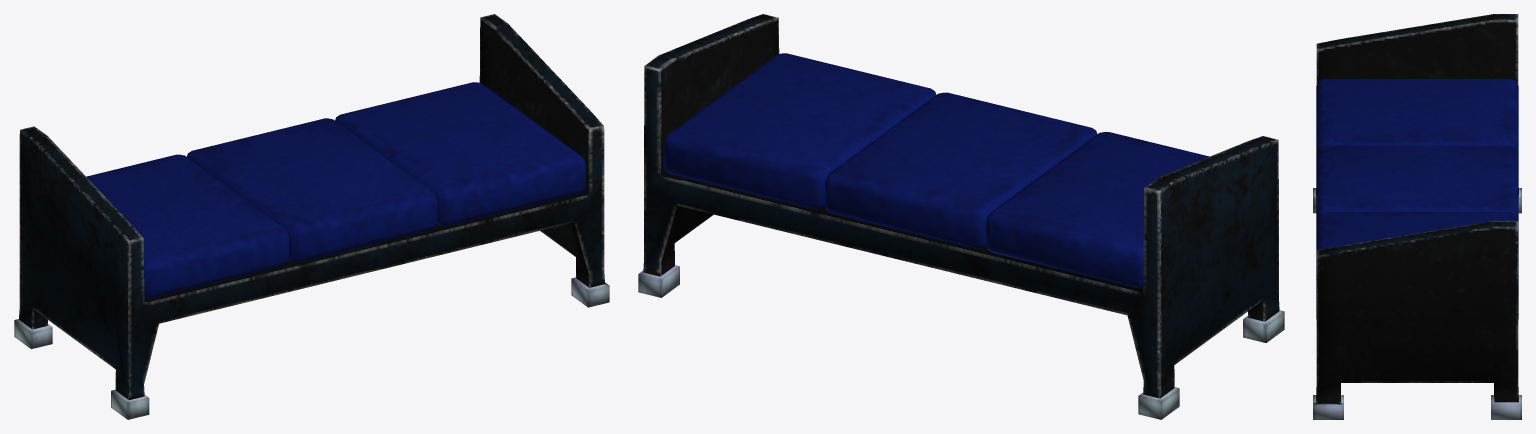
Rendered from Bench_Long_1.fbx.
3 renders of one model, left to right at view 1: azimuth 30°, elevation 25°; view 2: azimuth 150°, elevation 25°; view 3: azimuth 270°, elevation 25°, orthographic. The views are drawn at different scales.
Parts seen in each view (by area): view 1: R_BenchT1_1; view 2: R_BenchT1_1; view 3: R_BenchT1_1.
Part boxes in pixels (x1,y1,x2,y2): R_BenchT1_1: [14, 14, 609, 419]; R_BenchT1_1: [638, 14, 1284, 419]; R_BenchT1_1: [1313, 14, 1521, 419].
Bounding box in the file's own units: 188 × 77.87 × 76.81.
Materials: 1 (1 with a texture image).
